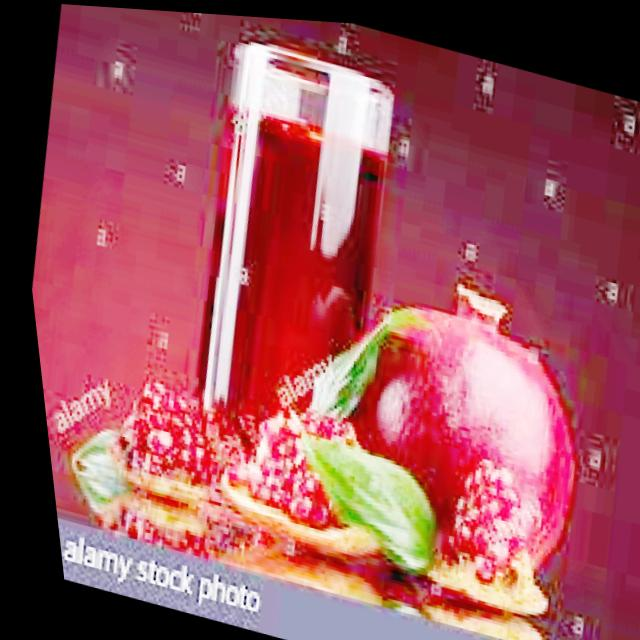drink: (144, 23, 449, 469)
